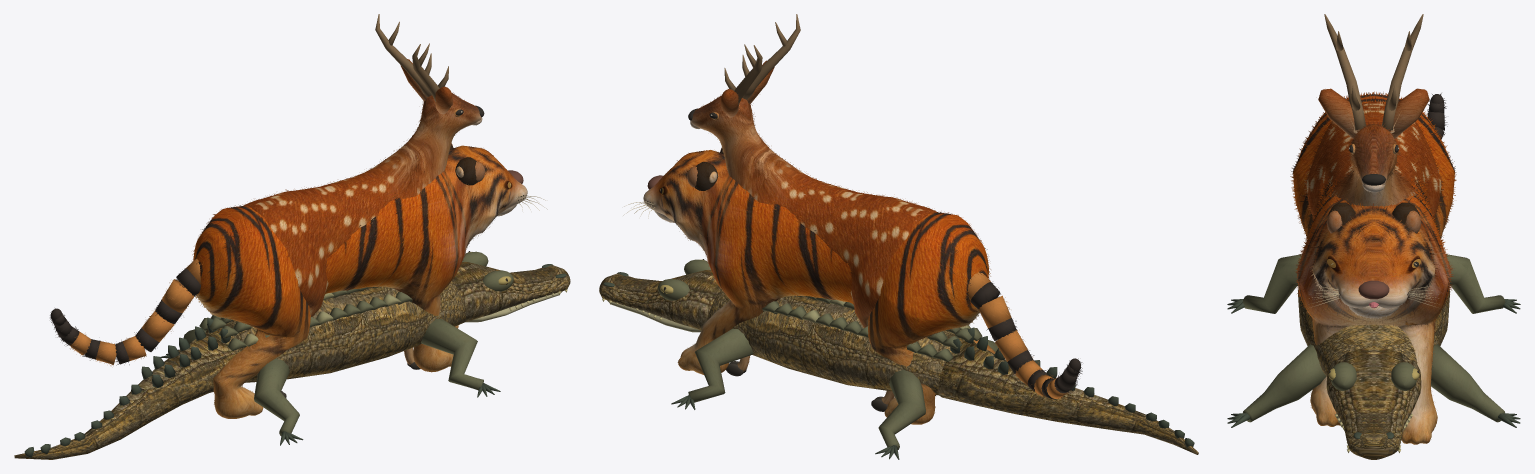
File: habitat-detail.glb
The picture shows the model from 3 angles, left to right: view 1: azimuth 30°, elevation 25°; view 2: azimuth 150°, elevation 25°; view 3: azimuth 270°, elevation 25°; orthographic projection. The views are drawn at different scales.
Parts seen in each view (by area): view 1: Continuous pelt.004, Armoured trunk.002, Facial details.006, Facial details.005; view 2: Continuous pelt.004, Armoured trunk.002, Facial details.006, Facial details.005; view 3: Continuous pelt.004, Armoured trunk.002, Facial details.006, Facial details.005.
Boxes of the visible parts, x1,y1,x2,y2 form: Continuous pelt.004: (50, 143, 547, 418); Armoured trunk.002: (14, 251, 570, 459); Facial details.006: (243, 59, 484, 397); Facial details.005: (375, 14, 482, 125); Continuous pelt.004: (623, 147, 1082, 424); Armoured trunk.002: (599, 259, 1198, 459); Facial details.006: (688, 60, 937, 411); Facial details.005: (690, 14, 800, 128); Continuous pelt.004: (1290, 91, 1456, 444); Armoured trunk.002: (1227, 254, 1520, 459); Facial details.006: (1303, 88, 1443, 221); Facial details.005: (1321, 14, 1429, 185).
Size of the model in its own units: 3.84 by 2.17 by 1.46.
Materials: 8 (6 with a texture image).
